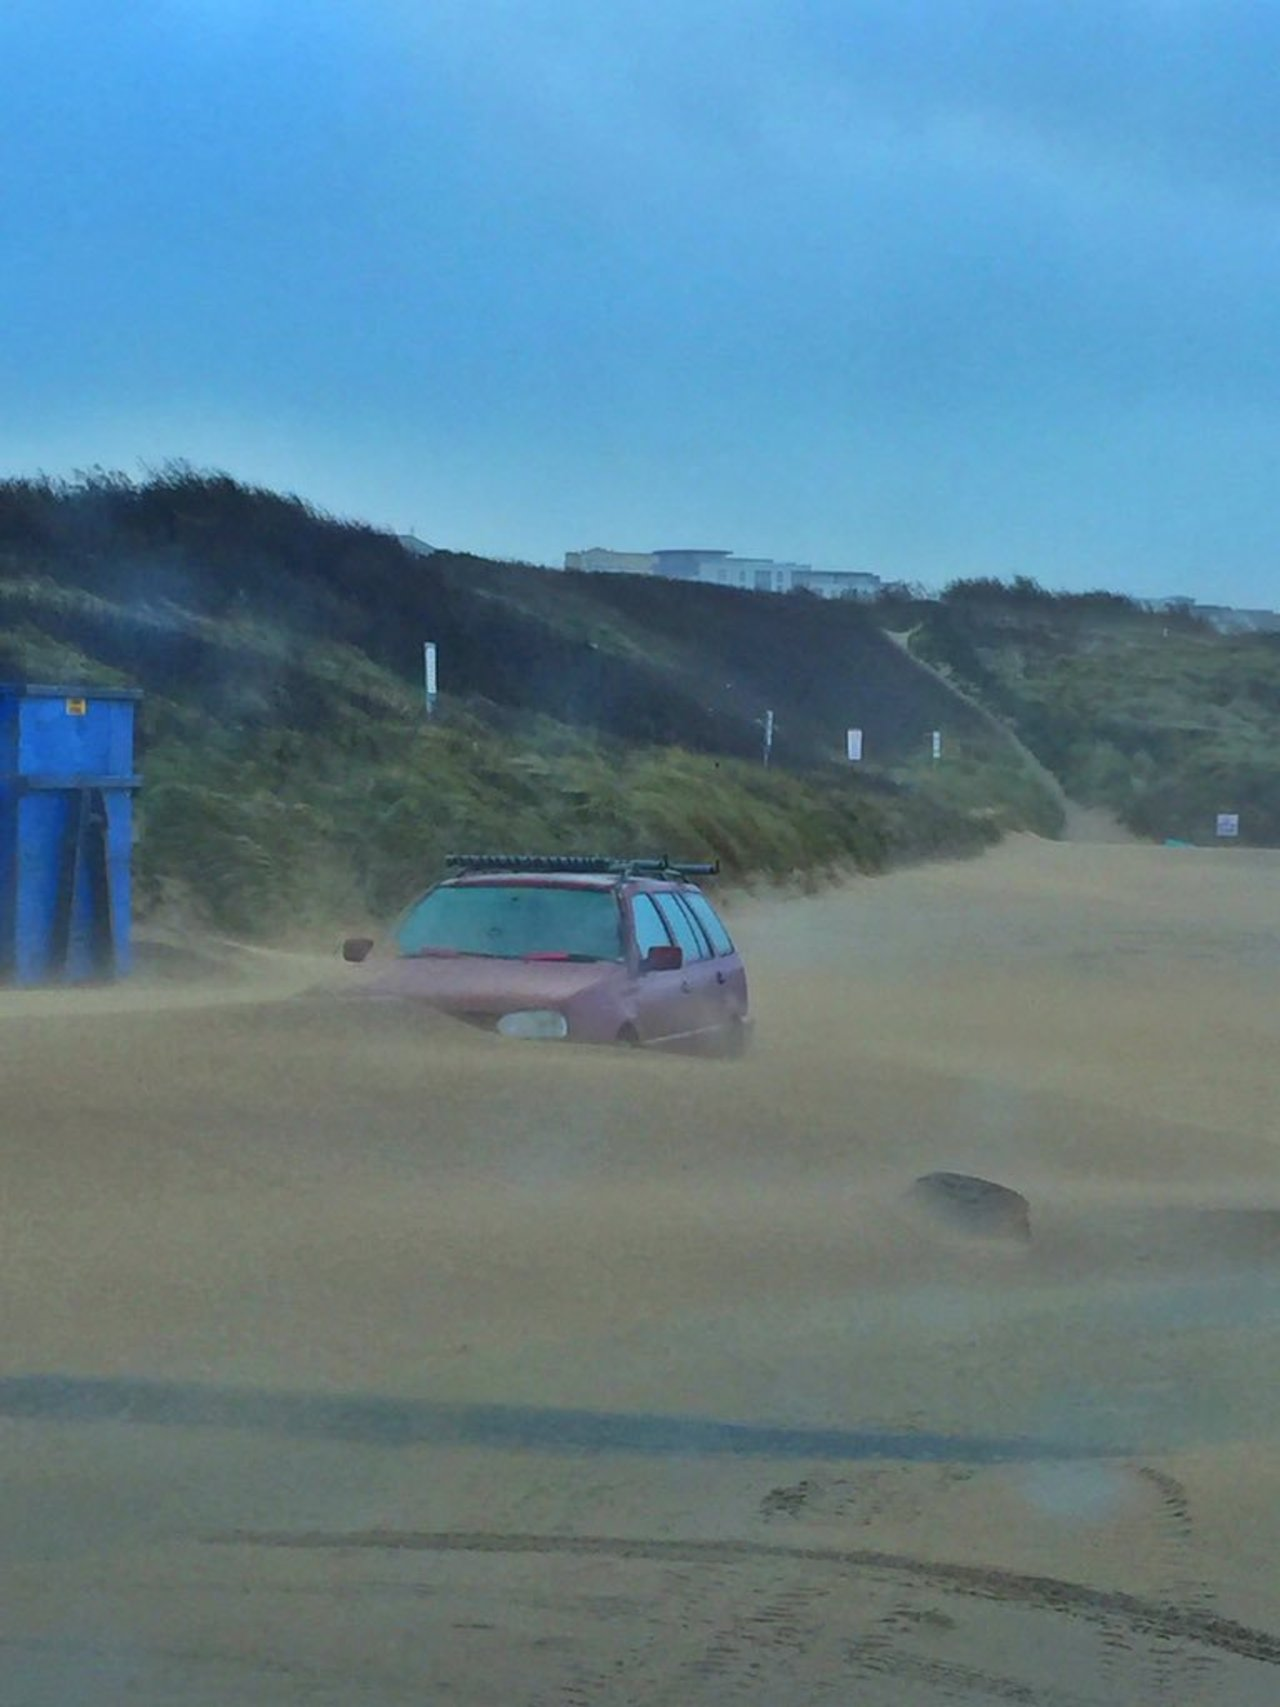car: (358, 862, 752, 1044)
